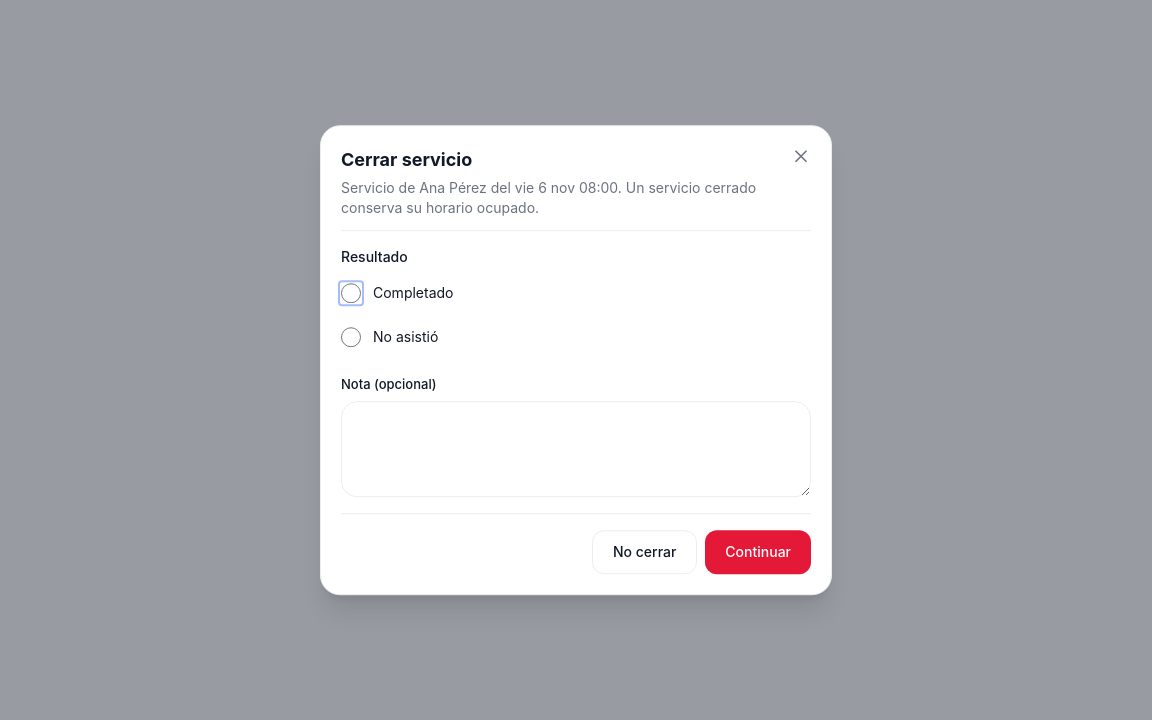
Scenario: ClosureDialog: cierre normal › describe la cita y no envía nada hasta confirmar
This screenshot has width=1152, height=720.
Click the radio button labelled "Completado" at {"x": 351, "y": 293}, box [341,283,361,303]
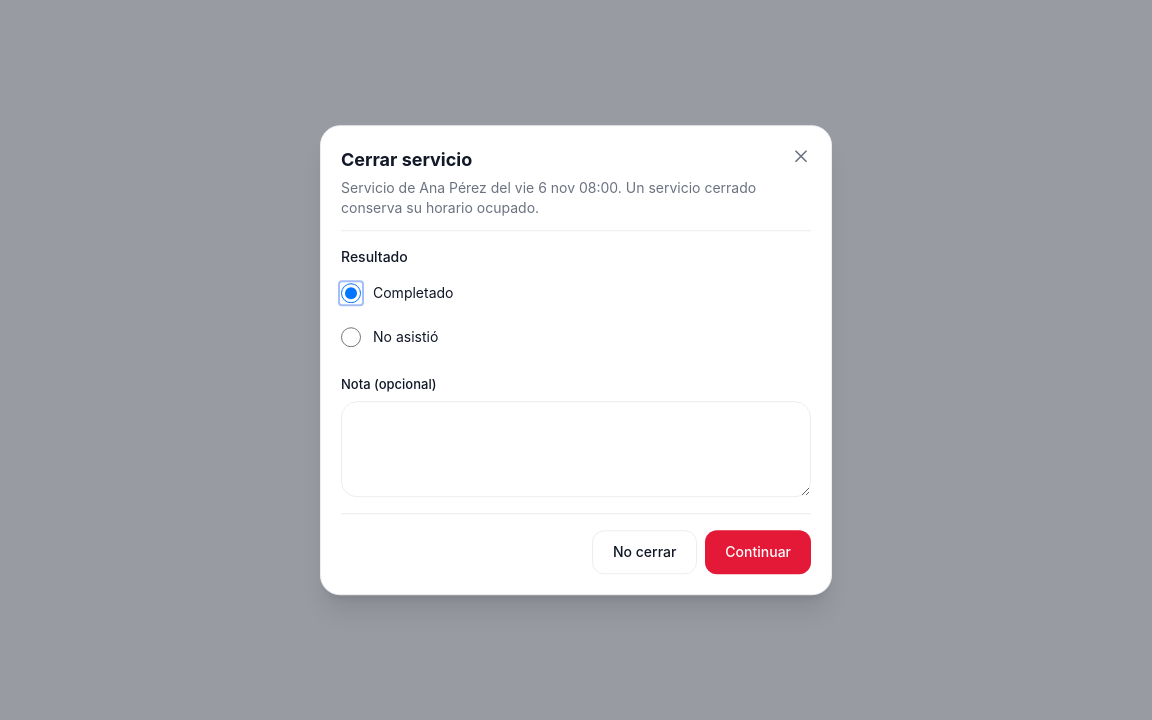
Click the button "Continuar" at {"x": 758, "y": 552}, box [705,530,811,574]
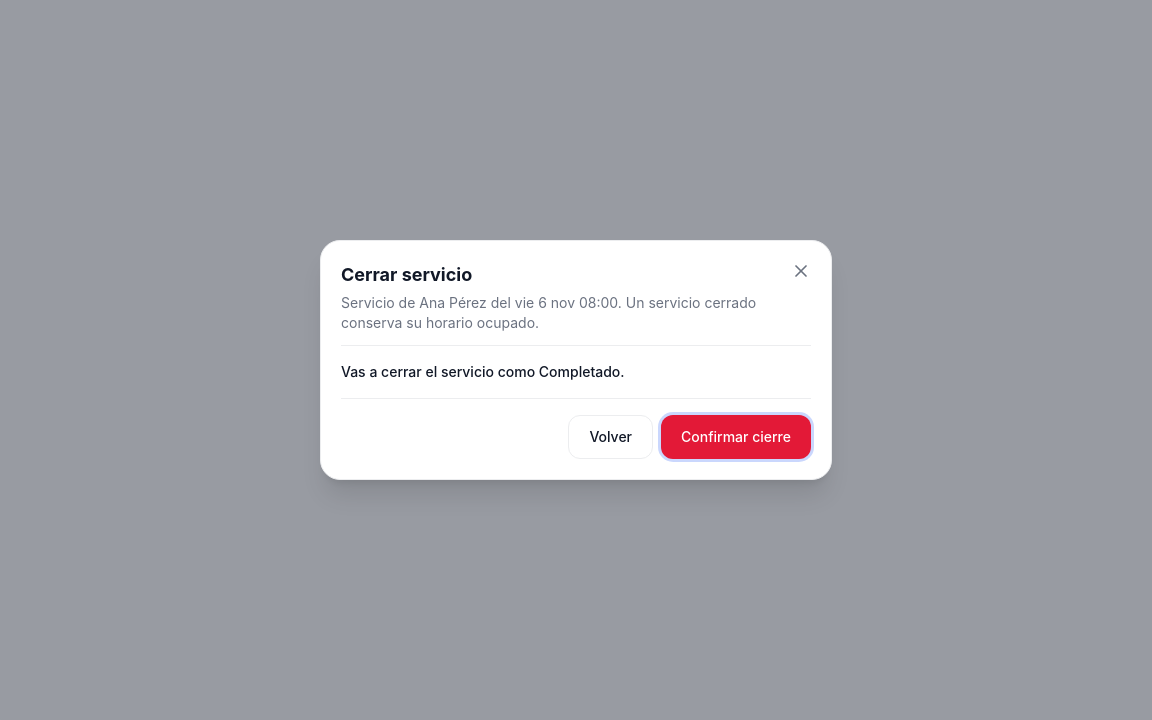
Result: the text "Vas a cerrar el servicio como Completado." is shown at [341,363,625,380]
